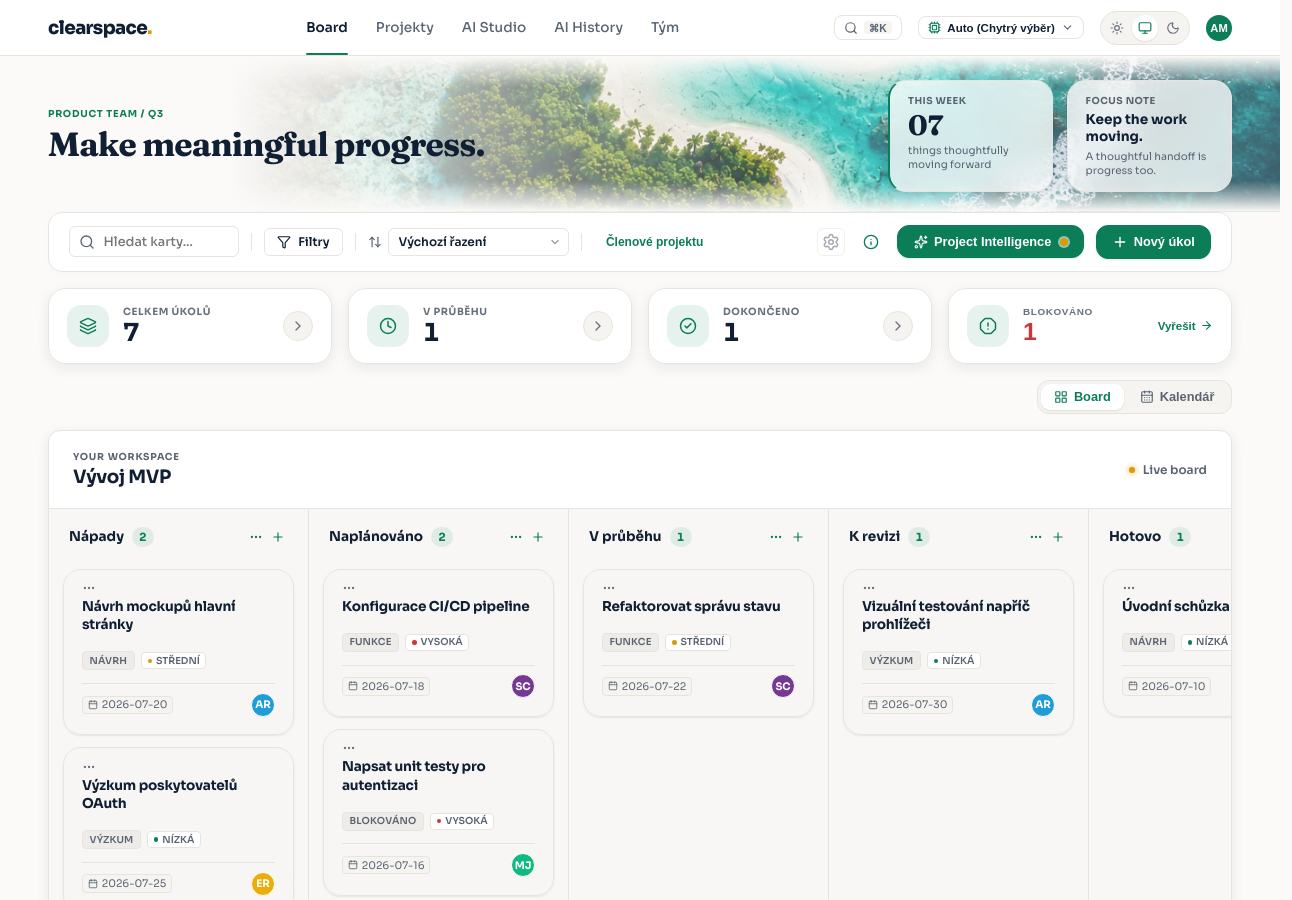
Test case: Kanban Board App Unit Tests › allows renaming columns
The width and height of the screenshot is (1292, 900).
Expected: the heading "Vývoj MVP" is shown, [73,465,180,488]
Note: Kliknutí na název sloupce pro zapnutí editace
Step 1. Click the heading with test id "column-title-column-1" → (96,537), box [69,528,124,546]
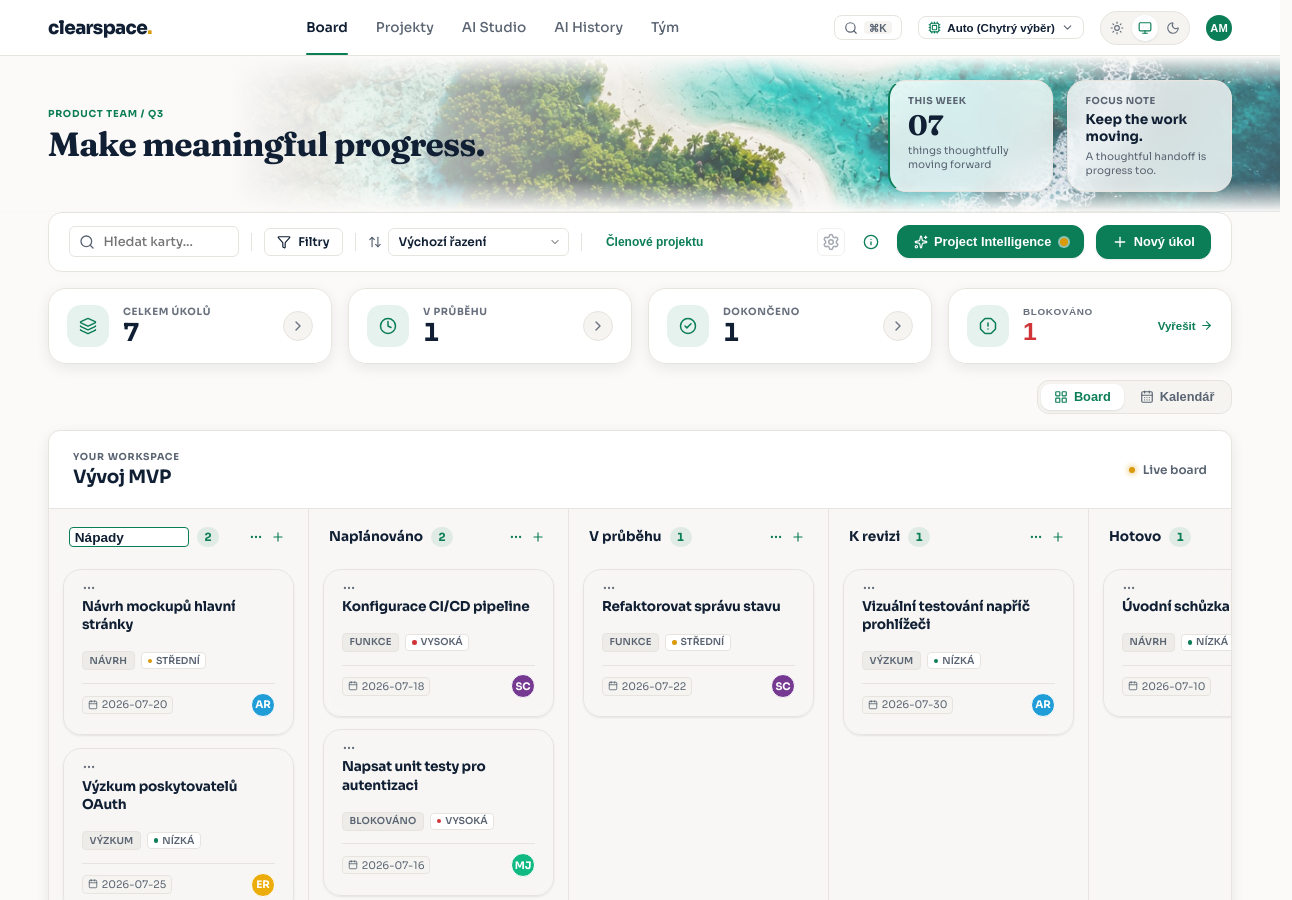
Result: the field with test id "column-input-column-1" is shown
Result: the field with test id "column-input-column-1" holds "Nápady"
Note: Změna názvu a odeslání stiskem Enter
Step 2. Replace the text in the field with test id "column-input-column-1" with "Záloha" → (129,537), box [69,527,189,547]
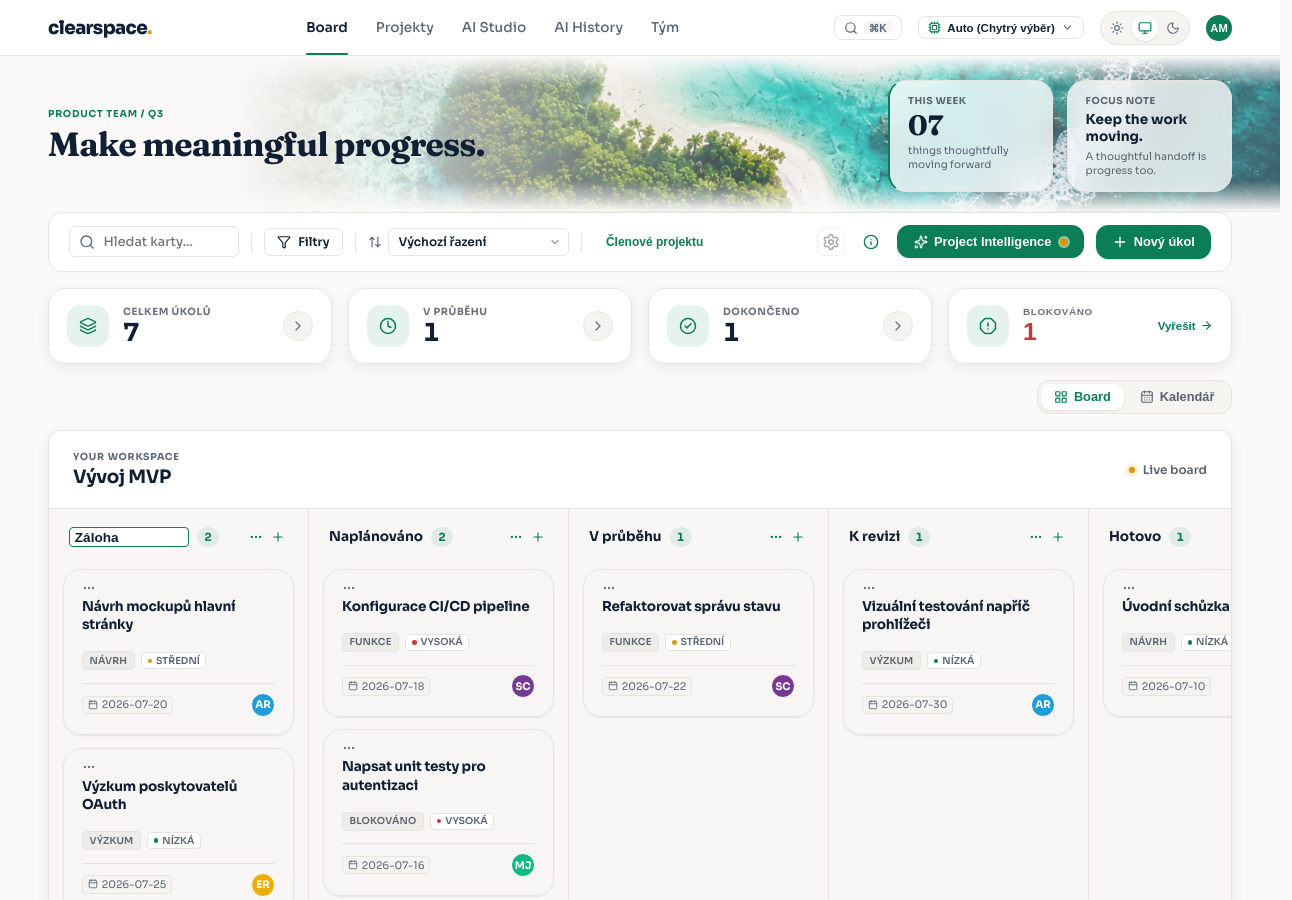
Step 3. Press Enter in the field with test id "column-input-column-1", box [69,527,189,547]
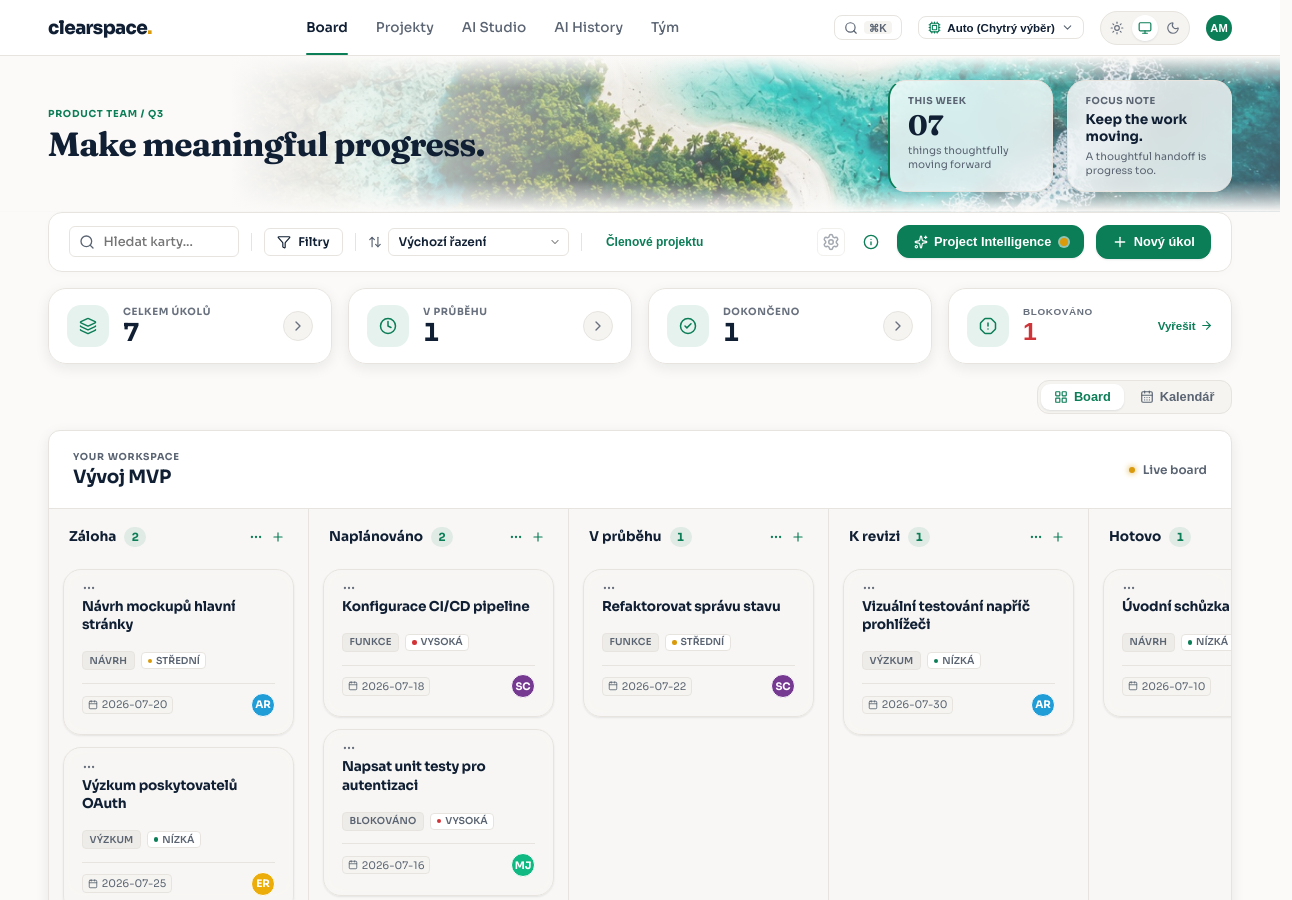
Result: the heading with test id "column-title-column-1" reads "Záloha" at [69,528,116,546]
